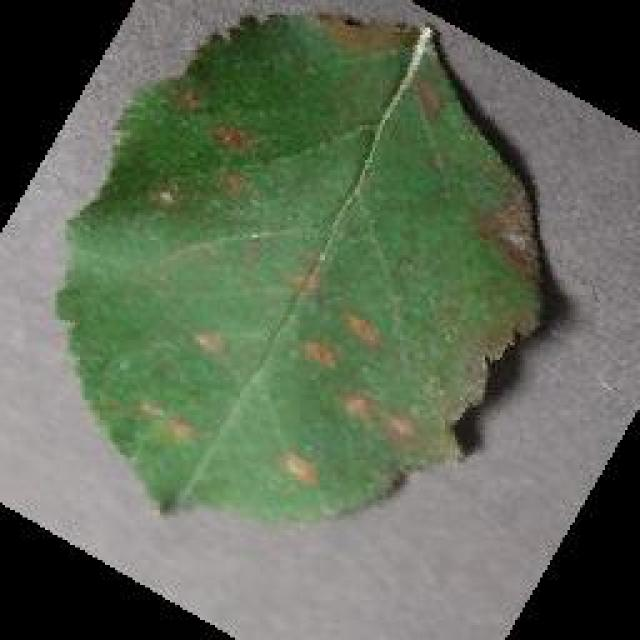apple cedar apple rust: (53, 7, 555, 525)
